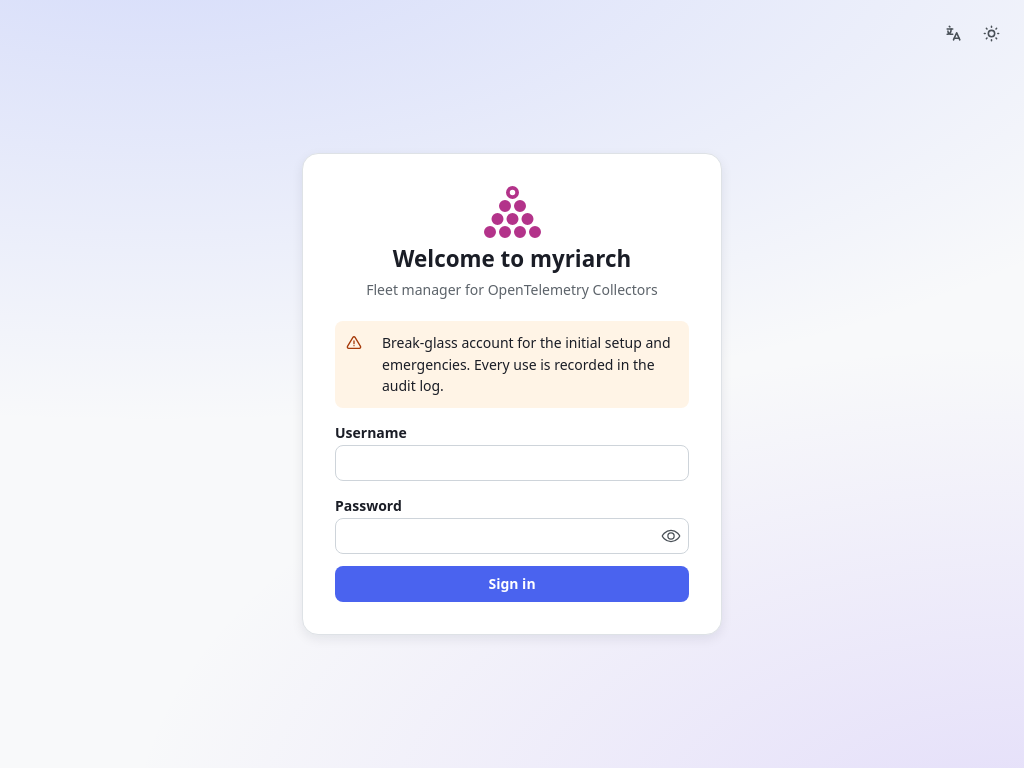
Scenario: login page: bootstrap admin › shows the problem message when the bootstrap admin is not enabled (404)
Type "admin" into the field labelled "Username" at (512, 463), box left=335, top=445, right=689, bottom=481
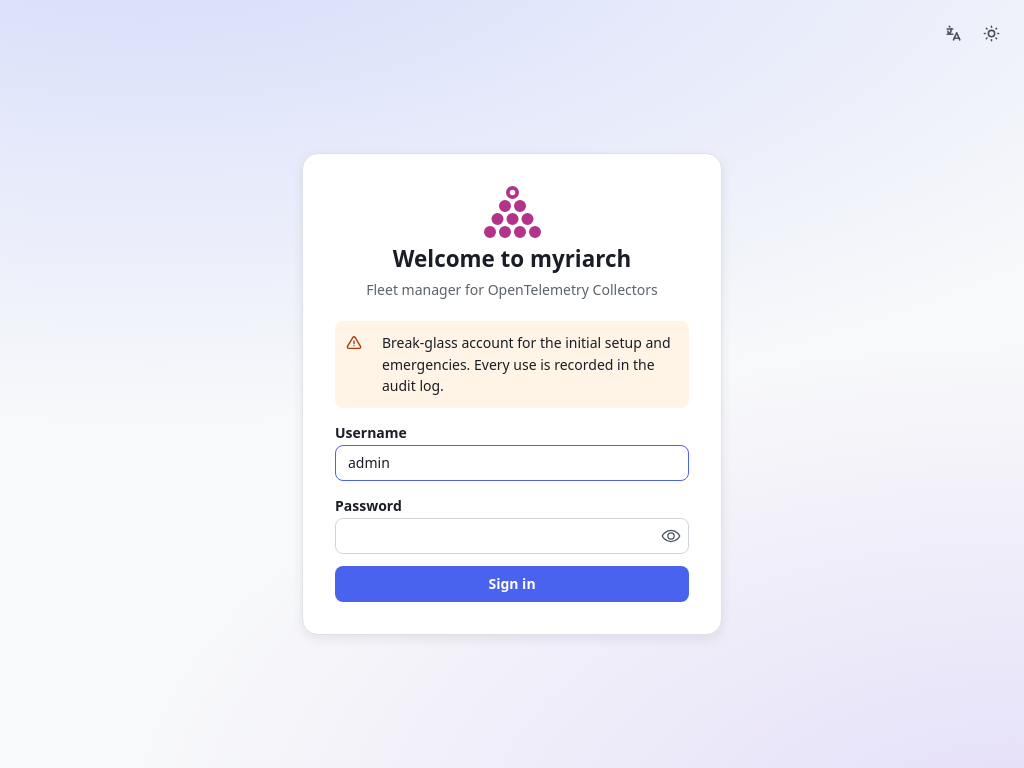
Type "some-test-password" into the password field labelled "Password" at (512, 536), box left=336, top=519, right=688, bottom=553
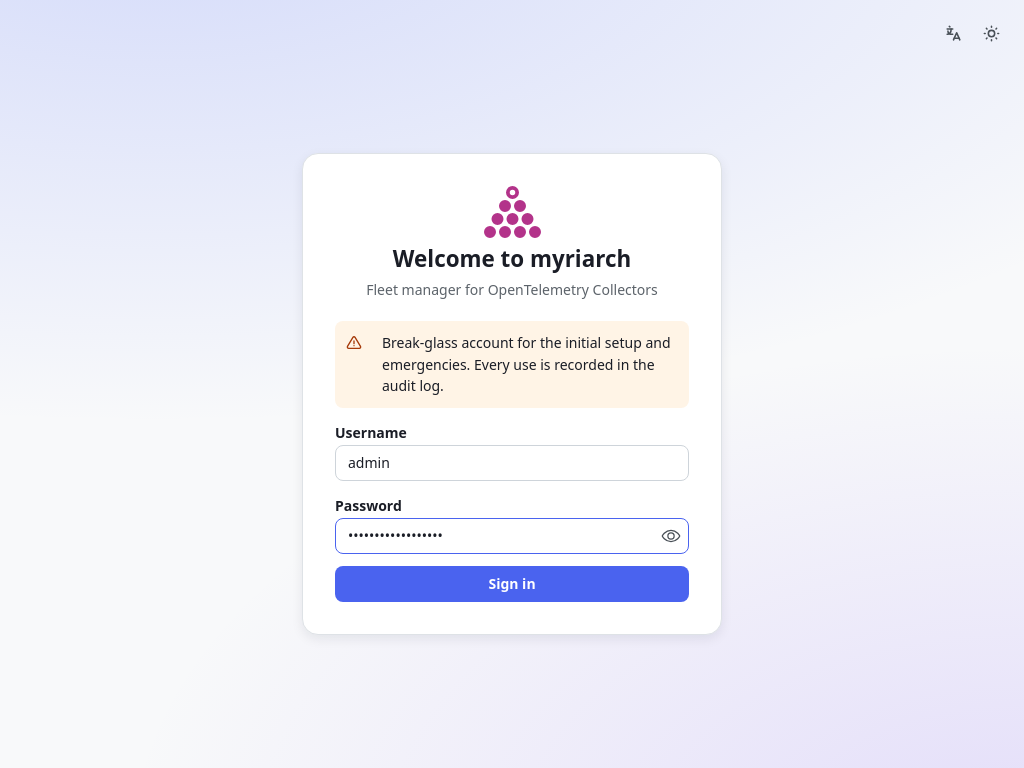
Click the button "Sign in" at (512, 584), box left=335, top=566, right=689, bottom=602
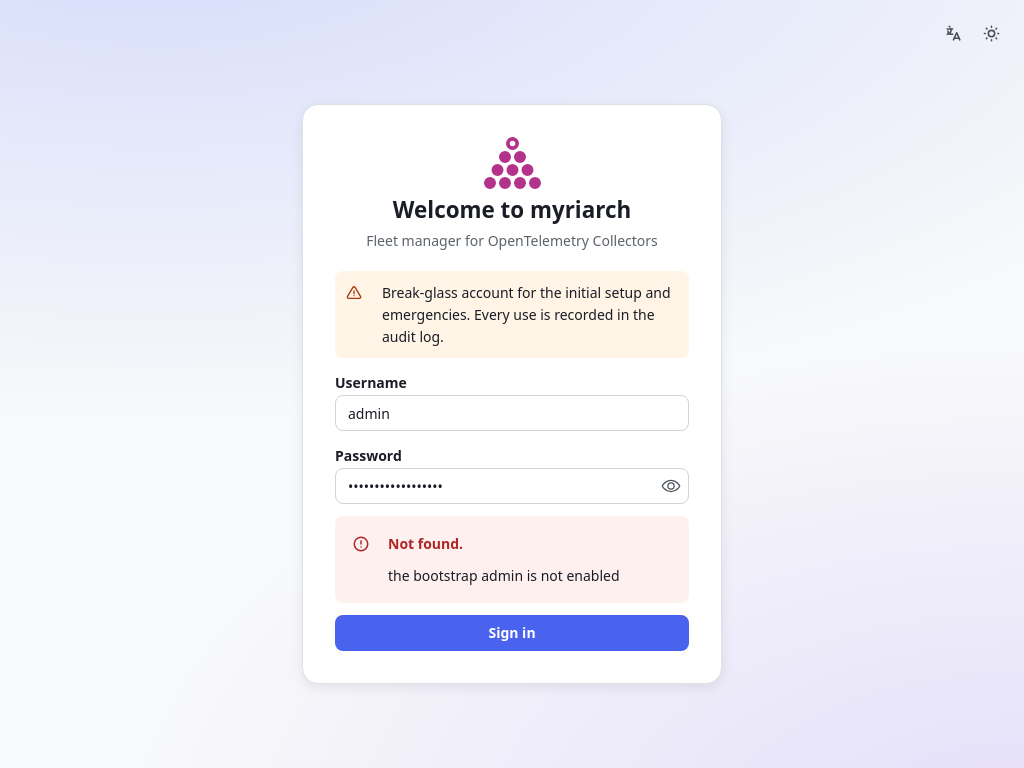
Now the text "the bootstrap admin is not enabled" is shown, box left=388, top=566, right=620, bottom=585
